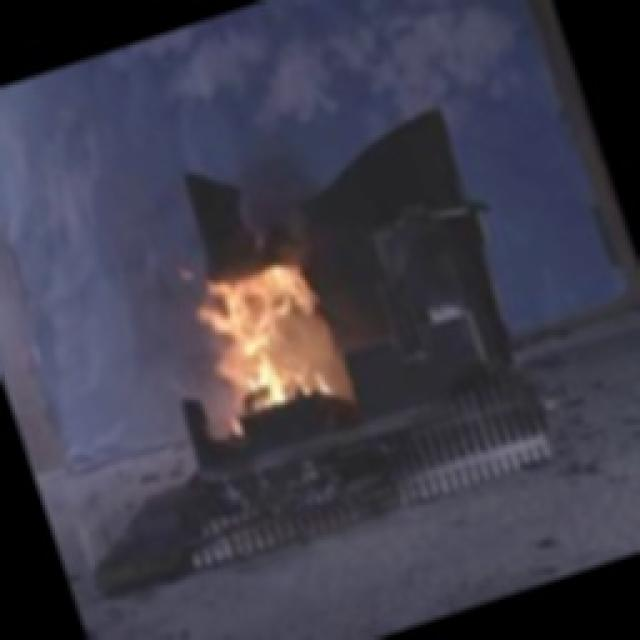fire: (166, 213, 372, 445)
